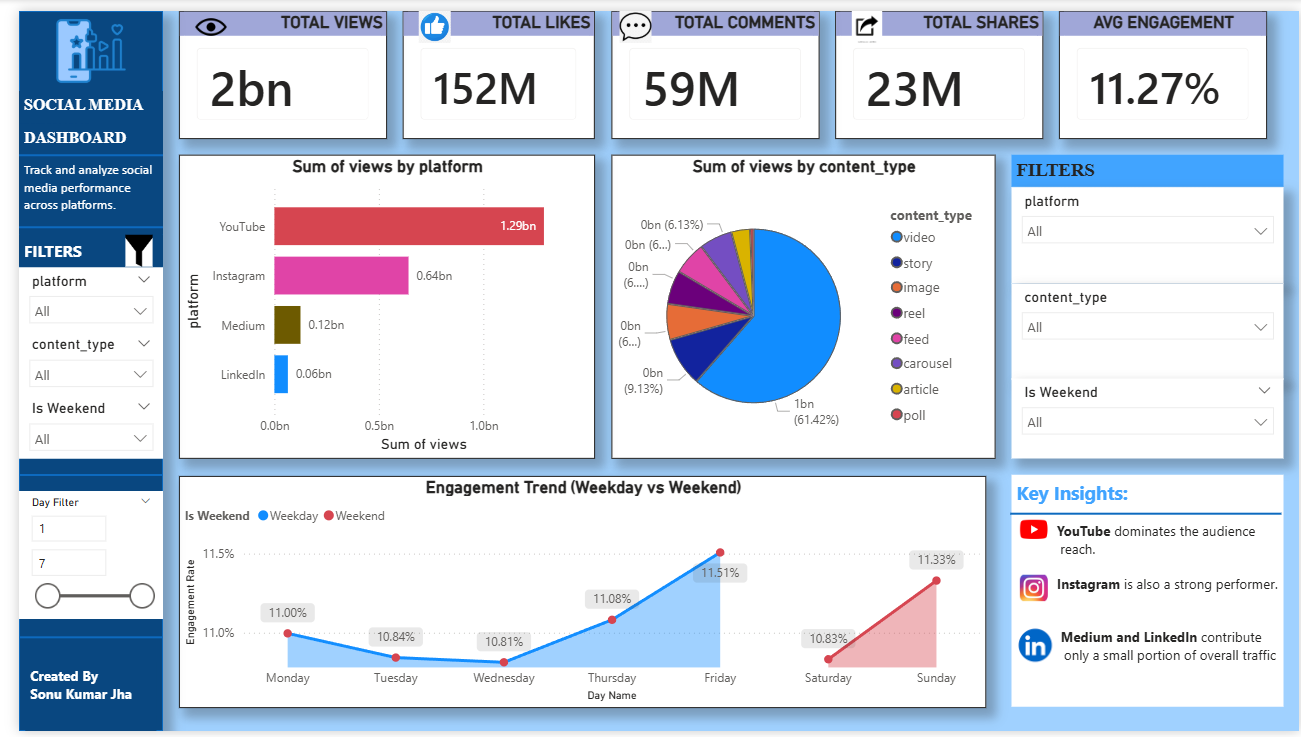

This screenshot's page, from the dashboard's own definition file:
{"tool":"powerbi","page":{"name":"Page 1","canvas":[1280,720],"ordinal":0},"visuals":[{"type":"cardVisual","title":"TOTAL SHARES ","fields":{"Data":["clean_data.Total Shares"]},"box":[816,0,208,128],"z":0},{"type":"cardVisual","title":"TOTAL COMMENTS","fields":{"Data":["clean_data.Total Comments"]},"box":[592,0,208,128],"z":1000},{"type":"cardVisual","title":"TOTAL LIKES","fields":{"Data":["clean_data.Total Likes"]},"box":[384,0,192,128],"z":2000},{"type":"cardVisual","title":"  TOTAL VIEWS","fields":{"Data":["clean_data.Total Views"]},"box":[160,0,208,128],"z":3000},{"type":"cardVisual","title":"AVG ENGAGEMENT","fields":{"Data":["clean_data.Avg Engagement"]},"box":[1040,0,208,128],"z":4000},{"type":"pieChart","fields":{"Category":["clean_data.content_type"],"Y":["Sum(clean_data.views)"]},"box":[592,144,384,304],"z":5000},{"type":"clusteredBarChart","fields":{"Category":["clean_data.platform"],"Y":["Sum(clean_data.views)"]},"box":[160,144,416,304],"z":6000},{"type":"lineChart","title":"Engagement Trend (Weekday vs Weekend)","fields":{"Category":["clean_data.Day Name"],"Y":["clean_data.Engagement Rate"],"Series":["clean_data.Is Weekend"]},"box":[160.5,464.5,807.1,231.6],"z":7000},{"type":"image","box":[160,0,64,32],"z":8000},{"type":"image","box":[384,0,64,32],"z":9000},{"type":"image","box":[592,0,48,32],"z":10000},{"type":"image","box":[800,0,96,32],"z":11000},{"type":"textbox","box":[992,144,272,32],"z":12000},{"type":"slicer","fields":{"Values":["clean_data.platform"]},"box":[992,176,272,96],"z":13000},{"type":"slicer","fields":{"Values":["clean_data.content_type"]},"box":[992,272,272,96],"z":14000},{"type":"slicer","fields":{"Values":["clean_data.Is Weekend"]},"box":[992,368,272,80],"z":15000},{"type":"shape","box":[0,0,144,720],"z":16000},{"type":"textbox","box":[0,80,144,48],"z":17000},{"type":"textbox","box":[0,112,144,48],"z":18000},{"type":"image","box":[0,0,144,80],"z":19000},{"type":"textbox","box":[0,144,144,80],"z":20000},{"type":"textbox","box":[0,224,144,32],"z":20001},{"type":"shape","box":[0,96,144,96],"z":20002},{"type":"shape","box":[0,80,144,48],"z":20003},{"type":"shape","box":[0,176,144,80],"z":20004},{"type":"slicer","fields":{"Values":["clean_data.platform"]},"box":[0,256,144,64],"z":20005},{"type":"slicer","fields":{"Values":["clean_data.content_type"]},"box":[0,320,144,64],"z":20006},{"type":"slicer","fields":{"Values":["clean_data.Is Weekend"]},"box":[0,384,144,64],"z":20007},{"type":"shape","box":[0,450,143.8,30],"z":20008},{"type":"slicer","fields":{"Values":["clean_data.Day Number"]},"box":[0,480,144,128],"z":20009},{"type":"image","box":[80,224,80,32],"z":20010},{"type":"textbox","box":[992,464,272,232],"z":20011},{"type":"image","box":[991.7,509.1,47.1,19.3],"z":20012},{"type":"image","box":[991.7,563.4,47.1,26.5],"z":20013},{"type":"image","box":[985.7,616.5,60.3,36.2],"z":20014},{"type":"shape","box":[1007.5,625,272.5,95],"z":20015},{"type":"textbox","box":[6,651.5,131.5,68.8],"z":20016},{"type":"shape","box":[0,585,143.8,100],"z":20017}]}

Visuals, with their boxes in screenshot pixels (x1, y1, x2, y2), scaled from the page's 1280x720 canvas onto the 1301x737 screenshot:
"TOTAL SHARES " cardVisual: {"x1": 829, "y1": 0, "x2": 1041, "y2": 131}
"TOTAL COMMENTS" cardVisual: {"x1": 602, "y1": 0, "x2": 813, "y2": 131}
"TOTAL LIKES" cardVisual: {"x1": 390, "y1": 0, "x2": 585, "y2": 131}
"  TOTAL VIEWS" cardVisual: {"x1": 163, "y1": 0, "x2": 374, "y2": 131}
"AVG ENGAGEMENT" cardVisual: {"x1": 1057, "y1": 0, "x2": 1268, "y2": 131}
pieChart - clean_data.content_type x Sum(clean_data.views): {"x1": 602, "y1": 147, "x2": 992, "y2": 459}
clusteredBarChart - clean_data.platform x Sum(clean_data.views): {"x1": 163, "y1": 147, "x2": 585, "y2": 459}
"Engagement Trend (Weekday vs Weekend)" lineChart: {"x1": 163, "y1": 475, "x2": 983, "y2": 713}
image: {"x1": 163, "y1": 0, "x2": 228, "y2": 33}
image: {"x1": 390, "y1": 0, "x2": 455, "y2": 33}
image: {"x1": 602, "y1": 0, "x2": 650, "y2": 33}
image: {"x1": 813, "y1": 0, "x2": 911, "y2": 33}
textbox: {"x1": 1008, "y1": 147, "x2": 1285, "y2": 180}
slicer - clean_data.platform: {"x1": 1008, "y1": 180, "x2": 1285, "y2": 278}
slicer - clean_data.content_type: {"x1": 1008, "y1": 278, "x2": 1285, "y2": 377}
slicer - clean_data.Is Weekend: {"x1": 1008, "y1": 377, "x2": 1285, "y2": 459}
shape: {"x1": 0, "y1": 0, "x2": 146, "y2": 736}
textbox: {"x1": 0, "y1": 82, "x2": 146, "y2": 131}
textbox: {"x1": 0, "y1": 115, "x2": 146, "y2": 164}
image: {"x1": 0, "y1": 0, "x2": 146, "y2": 82}
textbox: {"x1": 0, "y1": 147, "x2": 146, "y2": 229}
textbox: {"x1": 0, "y1": 229, "x2": 146, "y2": 262}
shape: {"x1": 0, "y1": 98, "x2": 146, "y2": 197}
shape: {"x1": 0, "y1": 82, "x2": 146, "y2": 131}
shape: {"x1": 0, "y1": 180, "x2": 146, "y2": 262}
slicer - clean_data.platform: {"x1": 0, "y1": 262, "x2": 146, "y2": 328}
slicer - clean_data.content_type: {"x1": 0, "y1": 328, "x2": 146, "y2": 393}
slicer - clean_data.Is Weekend: {"x1": 0, "y1": 393, "x2": 146, "y2": 459}
shape: {"x1": 0, "y1": 461, "x2": 146, "y2": 491}
slicer - clean_data.Day Number: {"x1": 0, "y1": 491, "x2": 146, "y2": 622}
image: {"x1": 81, "y1": 229, "x2": 163, "y2": 262}
textbox: {"x1": 1008, "y1": 475, "x2": 1285, "y2": 712}
image: {"x1": 1008, "y1": 521, "x2": 1056, "y2": 541}
image: {"x1": 1008, "y1": 577, "x2": 1056, "y2": 604}
image: {"x1": 1002, "y1": 631, "x2": 1063, "y2": 668}
shape: {"x1": 1024, "y1": 640, "x2": 1300, "y2": 736}
textbox: {"x1": 6, "y1": 667, "x2": 140, "y2": 736}
shape: {"x1": 0, "y1": 599, "x2": 146, "y2": 701}
